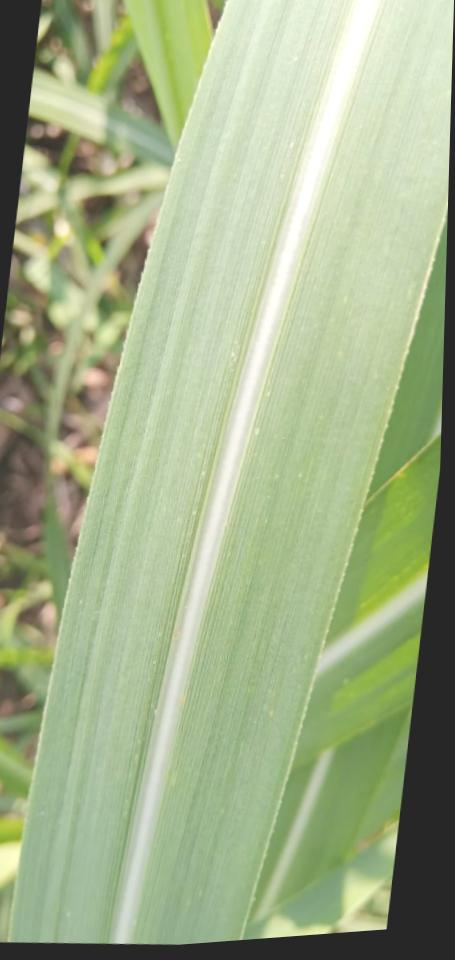Healthy: (9, 0, 353, 943), (134, 0, 454, 944), (322, 433, 441, 652), (291, 594, 423, 767)
